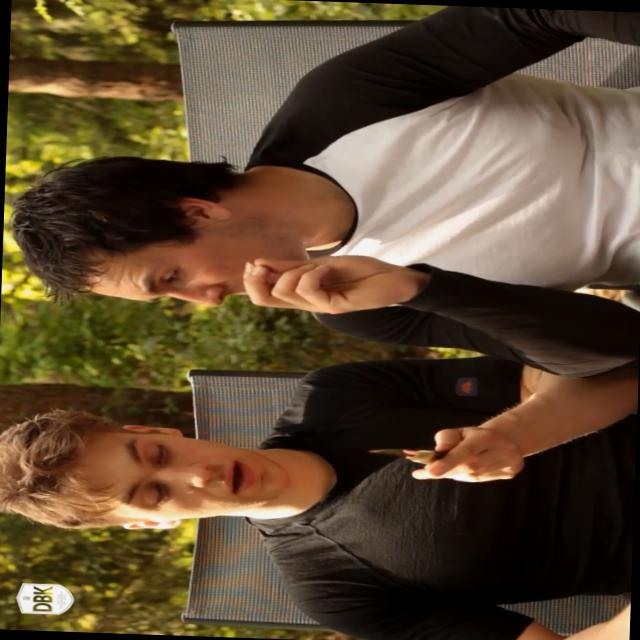knife: (353, 434, 501, 486)
